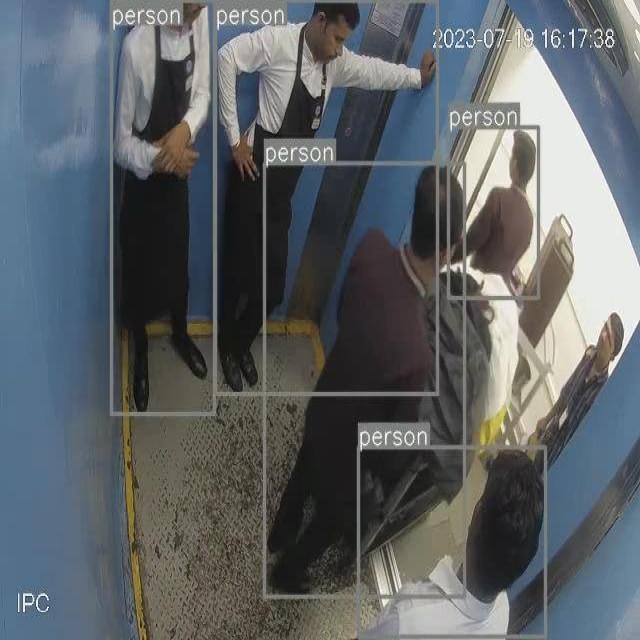person: (265, 164, 464, 596), (217, 7, 439, 393), (111, 4, 214, 415), (362, 450, 545, 630), (449, 126, 541, 294)
